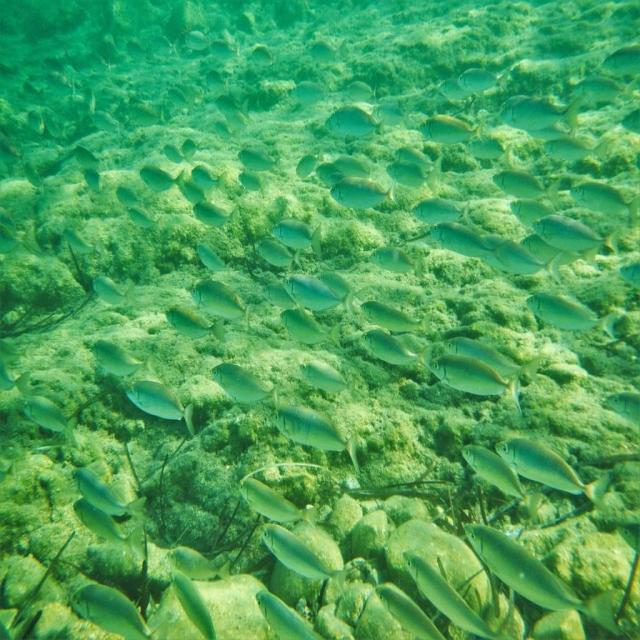Sokar Baligi: (267, 401, 368, 479), (424, 351, 528, 422), (124, 373, 203, 445), (321, 102, 388, 148)
